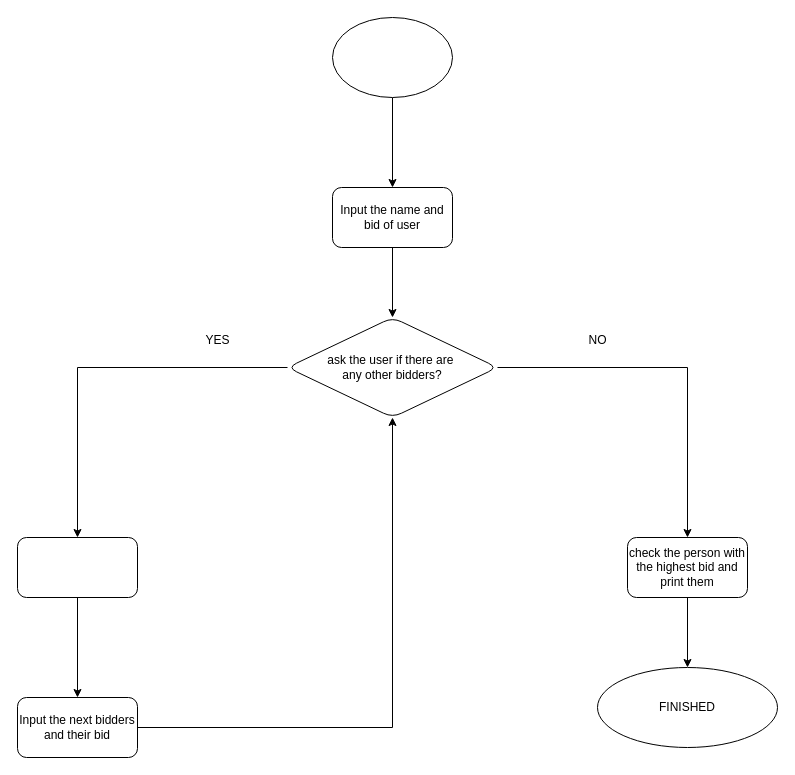
Image size: 795x775. Some labels were removed from this diagram. The box of each missing label's shape, as (x1, y1, x2, y2) in pixels:
clear the screen: (16, 536, 138, 598)
start: (332, 16, 452, 98)
